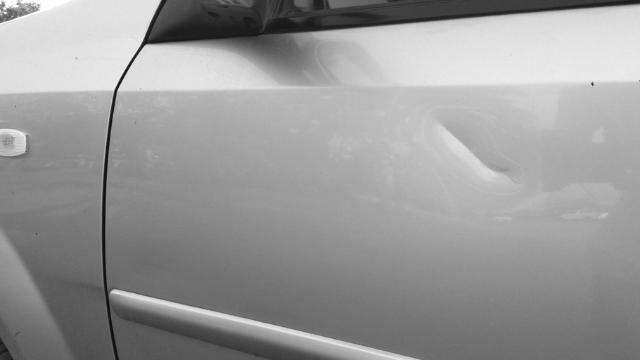Door: (402, 93, 532, 203)
